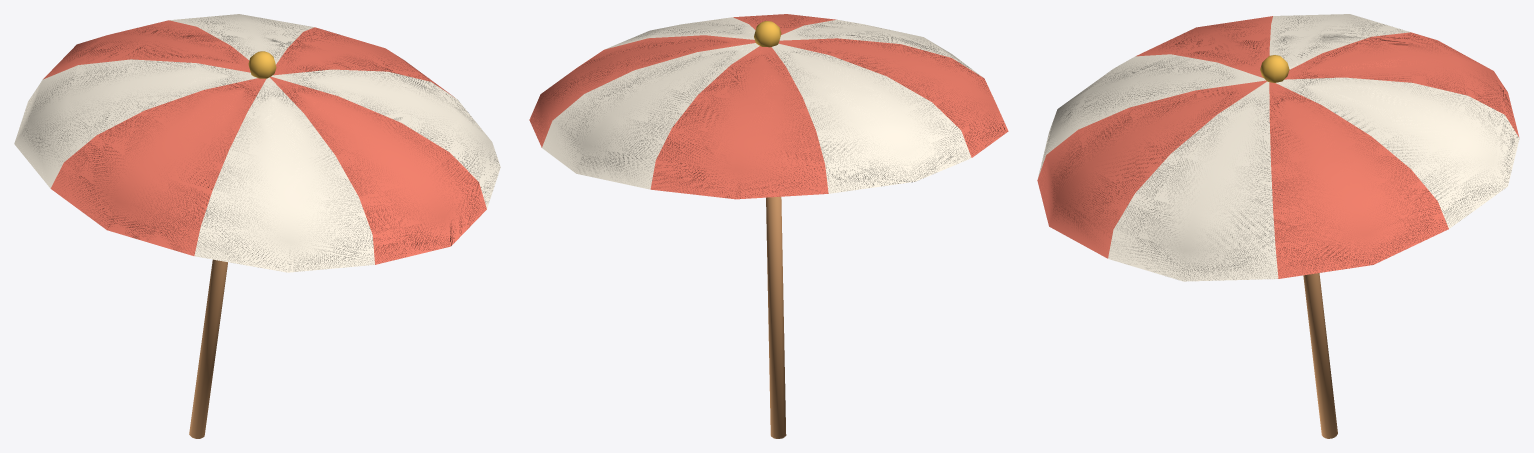
Rendered from BeachUmbrella.fbx.
3 views of the same model, side by side, from view 1: azimuth 30°, elevation 25°; view 2: azimuth 150°, elevation 25°; view 3: azimuth 270°, elevation 25° (orthographic). The views are drawn at different scales.
Visible parts, largest first — view 1: BeachUmbrella; view 2: BeachUmbrella; view 3: BeachUmbrella.
Boxes of the visible parts, left/top/right/bottom form: BeachUmbrella: left=14, top=14, right=500, bottom=438; BeachUmbrella: left=529, top=14, right=1008, bottom=438; BeachUmbrella: left=1037, top=14, right=1519, bottom=438.
Size of the model in its own units: 2.95 by 2.69 by 2.95.
